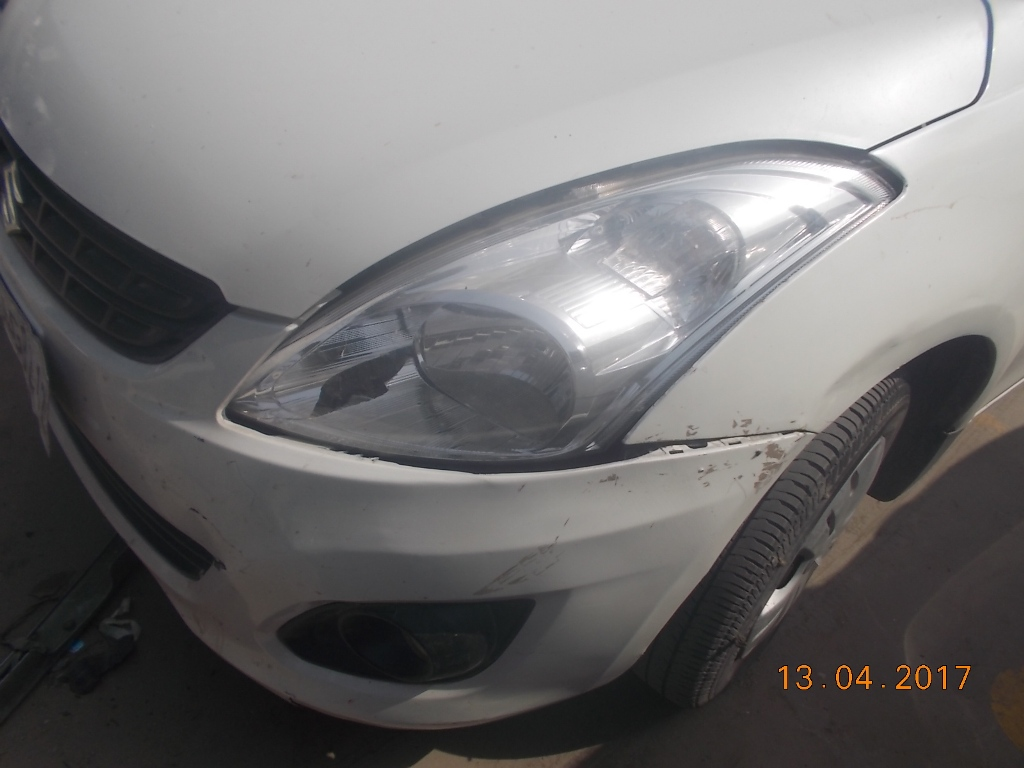Scratch_or_spot: (687, 464, 735, 494), (751, 443, 782, 478), (729, 416, 768, 433)
